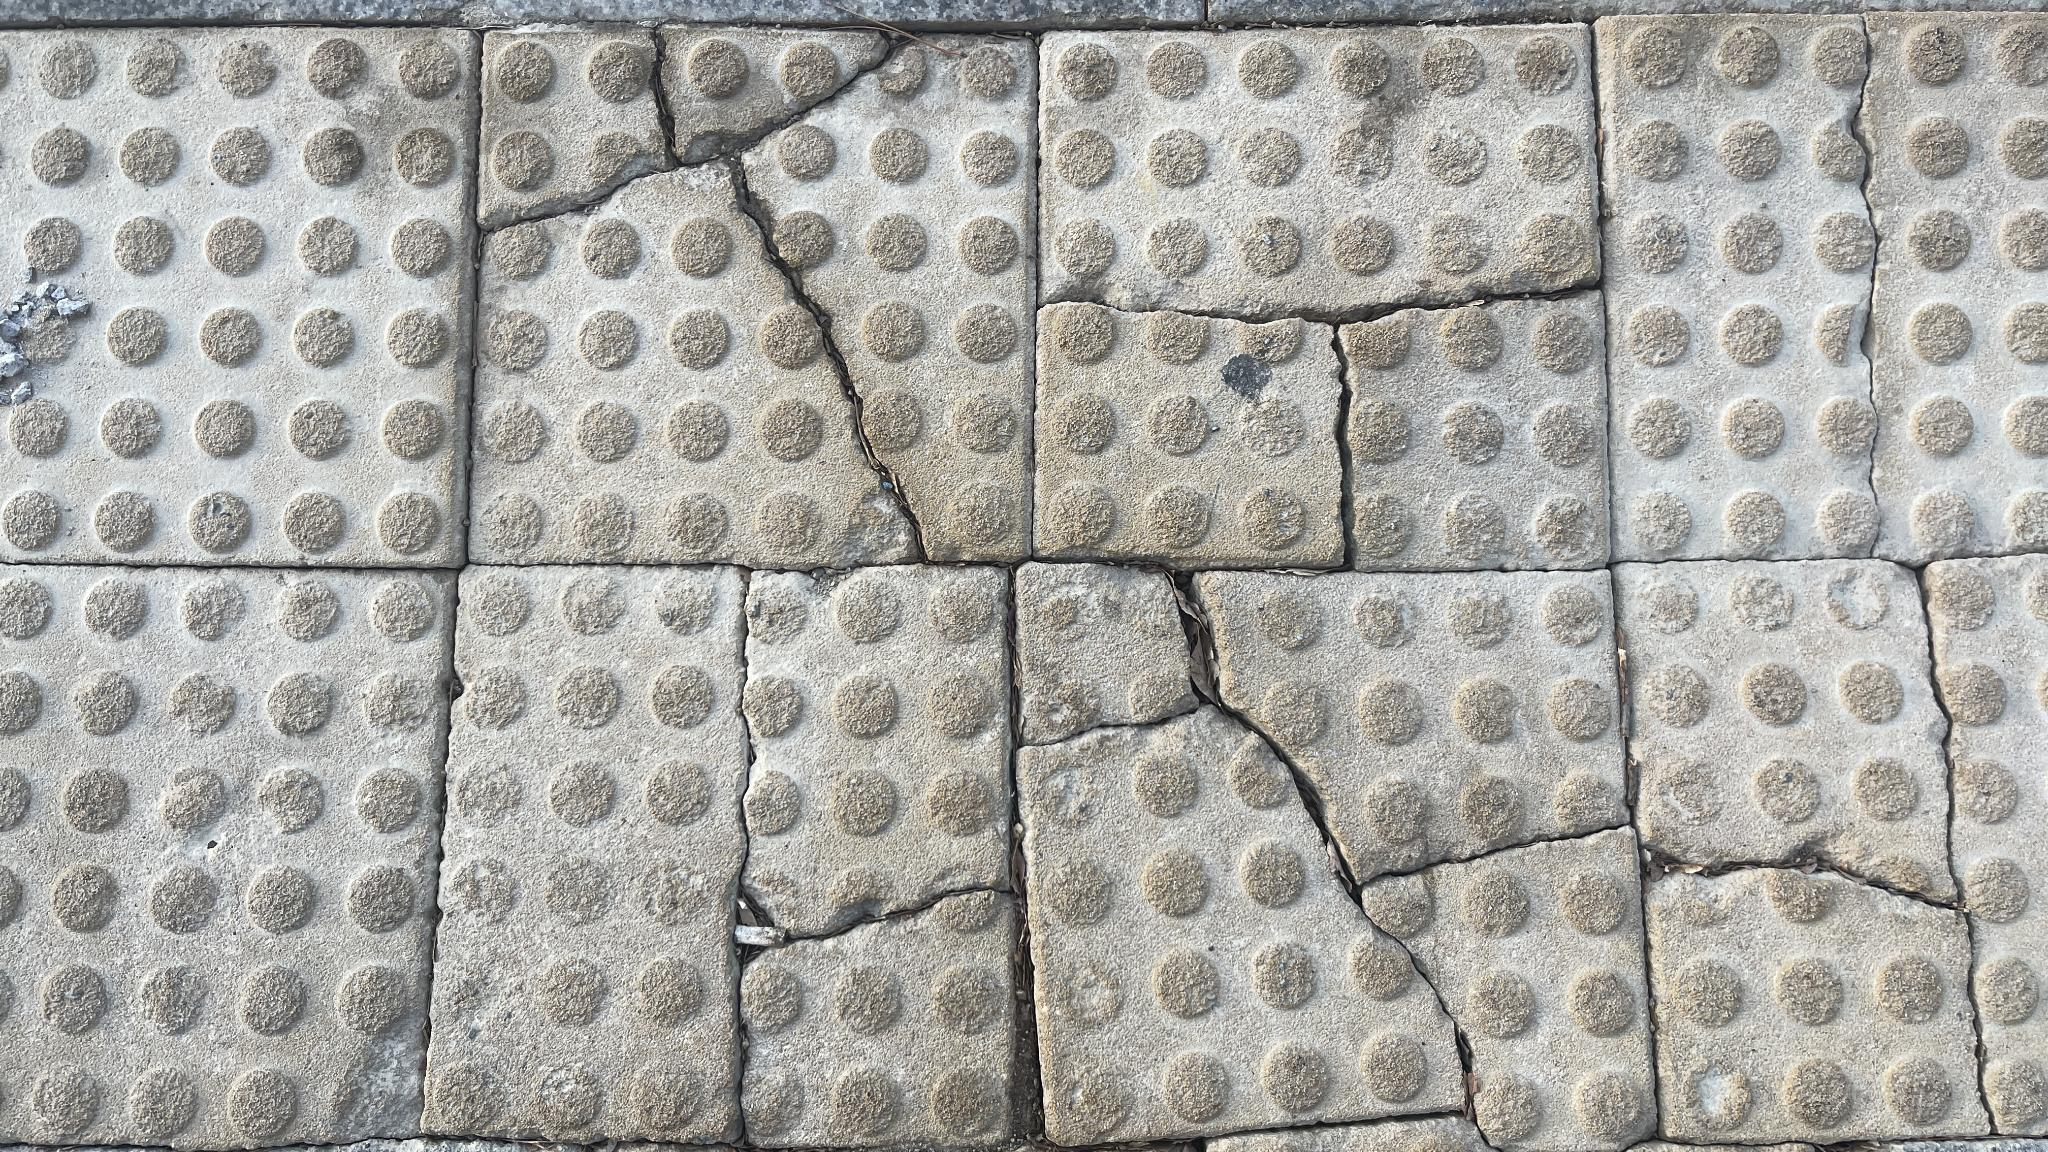Stop block broken: (1020, 564, 1619, 1146), (428, 572, 1010, 1139), (1037, 24, 1602, 558), (485, 31, 1031, 554)
